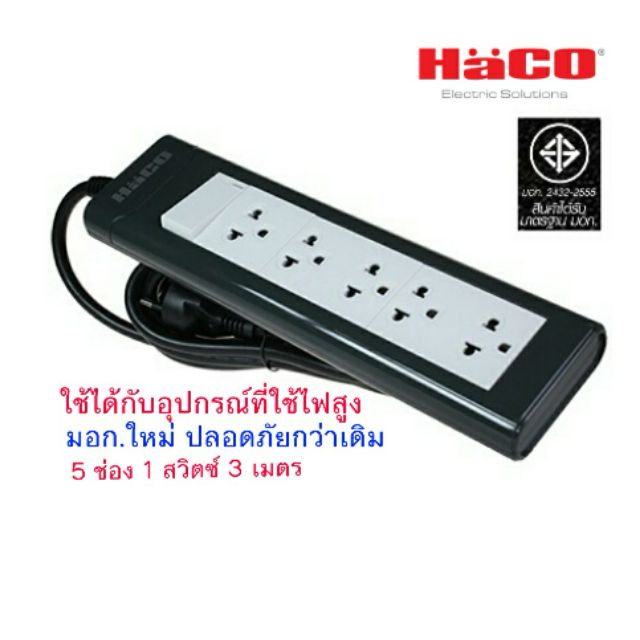Three_eye_plug: (74, 132, 615, 471)
